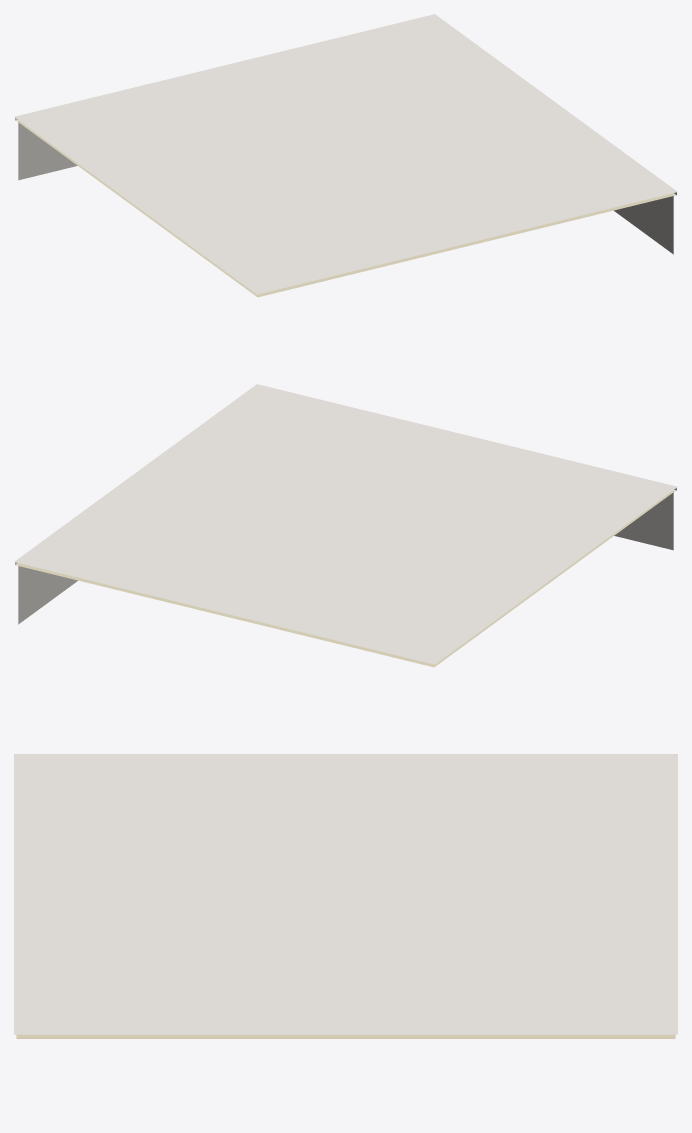
Rendered from microtopping.glb.
The picture shows the model from 3 angles, top to bottom: view 1: azimuth 30°, elevation 25°; view 2: azimuth 150°, elevation 25°; view 3: azimuth 270°, elevation 25°; orthographic projection. The views are drawn at different scales.
Parts seen in each view (by area): view 1: topcoat, substrate, mesh-layer; view 2: topcoat, substrate, mesh-layer; view 3: topcoat, mesh-layer, primer.
Part boxes in pixels (left/top/right/bottom): topcoat: left=14, top=14, right=677, bottom=294; substrate: left=18, top=122, right=673, bottom=254; mesh-layer: left=16, top=120, right=675, bottom=297; topcoat: left=14, top=384, right=677, bottom=664; substrate: left=18, top=492, right=673, bottom=624; mesh-layer: left=16, top=490, right=675, bottom=667; topcoat: left=14, top=754, right=677, bottom=1034; mesh-layer: left=16, top=1034, right=675, bottom=1038; primer: left=17, top=1038, right=674, bottom=1038.
Size of the model in its own units: 0.3 by 0.043 by 0.3.
